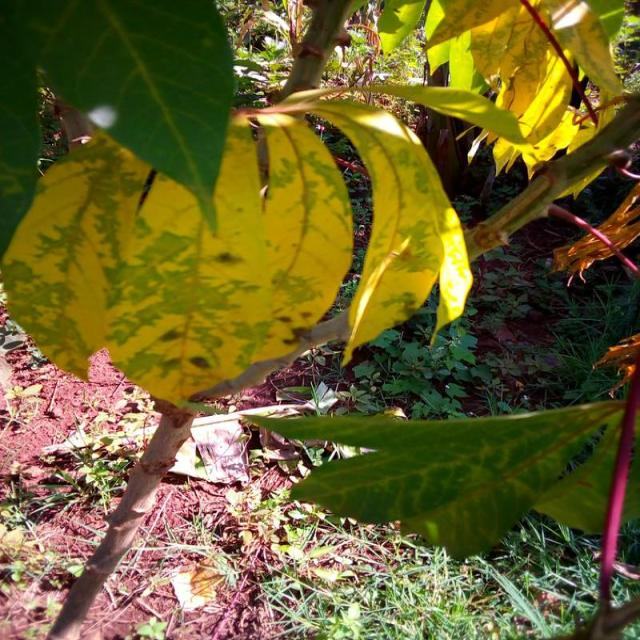cassava leaf: (1, 106, 355, 410), (240, 396, 638, 560), (254, 91, 473, 368), (1, 0, 236, 239)
